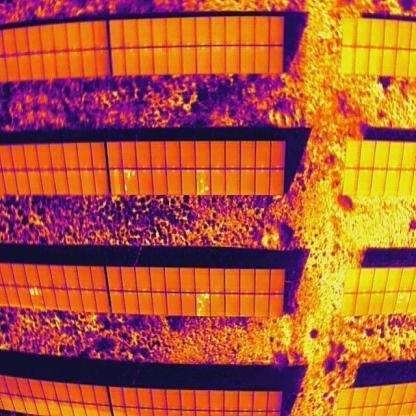anomaly: (195, 170, 211, 198), (123, 168, 138, 196), (196, 293, 211, 317), (27, 283, 44, 302)
